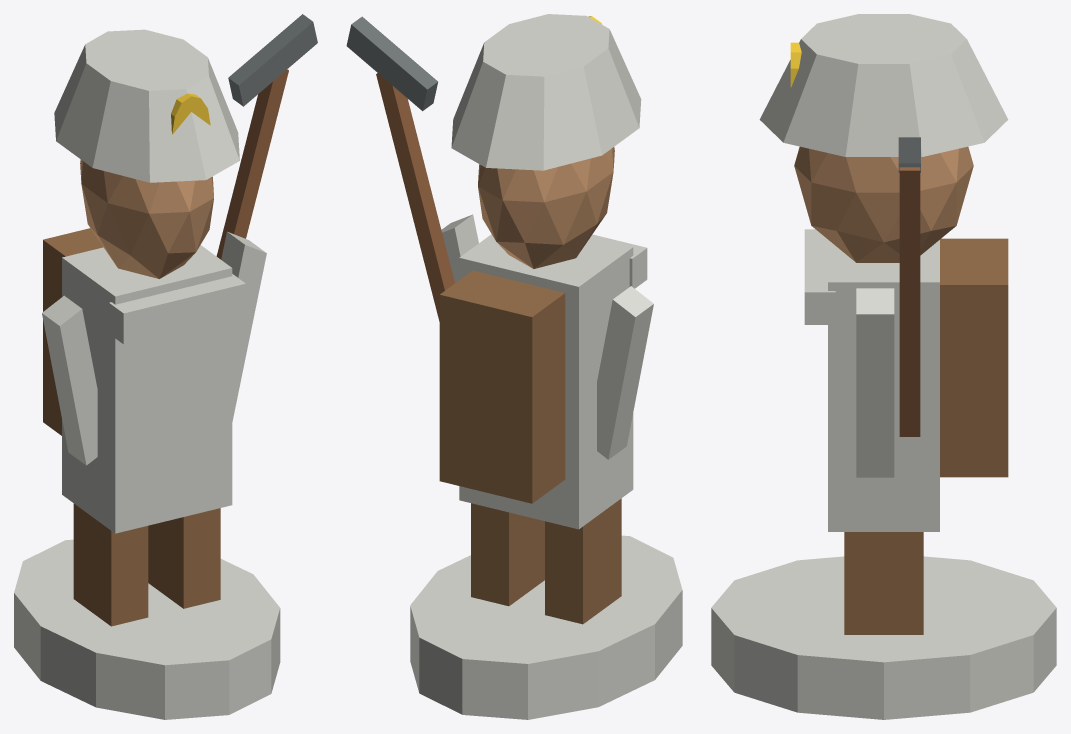
Rendered from peao_garimpeiro.glb.
3 views of the same model, side by side, from view 1: azimuth 30°, elevation 25°; view 2: azimuth 150°, elevation 25°; view 3: azimuth 270°, elevation 25° (orthographic). The views are drawn at different scales.
Parts seen in each view (by area): view 1: peao_garimpeiro; view 2: peao_garimpeiro; view 3: peao_garimpeiro.
Part boxes in pixels (box(x1,y1,x2,y2)): peao_garimpeiro: box(14, 14, 317, 719); peao_garimpeiro: box(346, 14, 682, 719); peao_garimpeiro: box(711, 14, 1056, 719).
Bounding box in the file's own units: 2 × 4 × 2.
